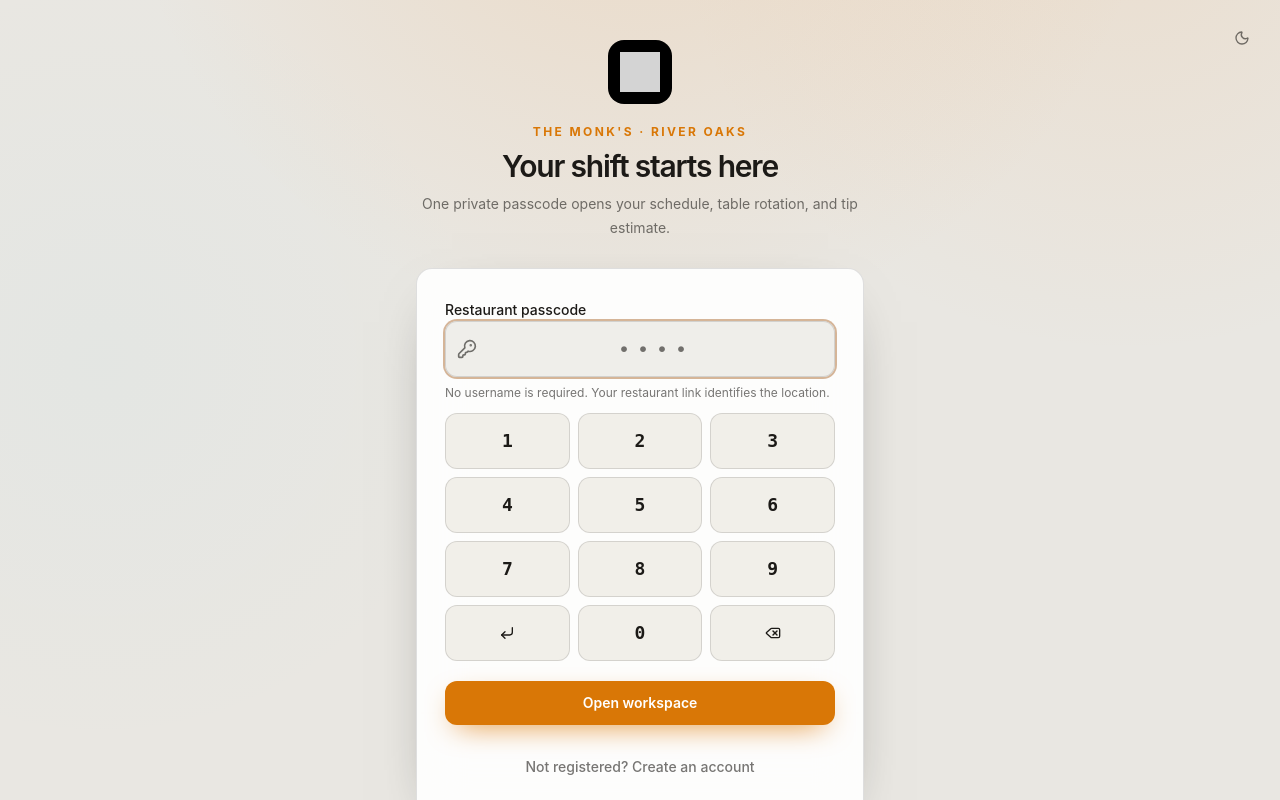
LoginScreen numeric keypad (Feature 013) › backspace removes exactly one digit
Click the button named "Digit 2" at (640, 441), box [578,413,702,469]
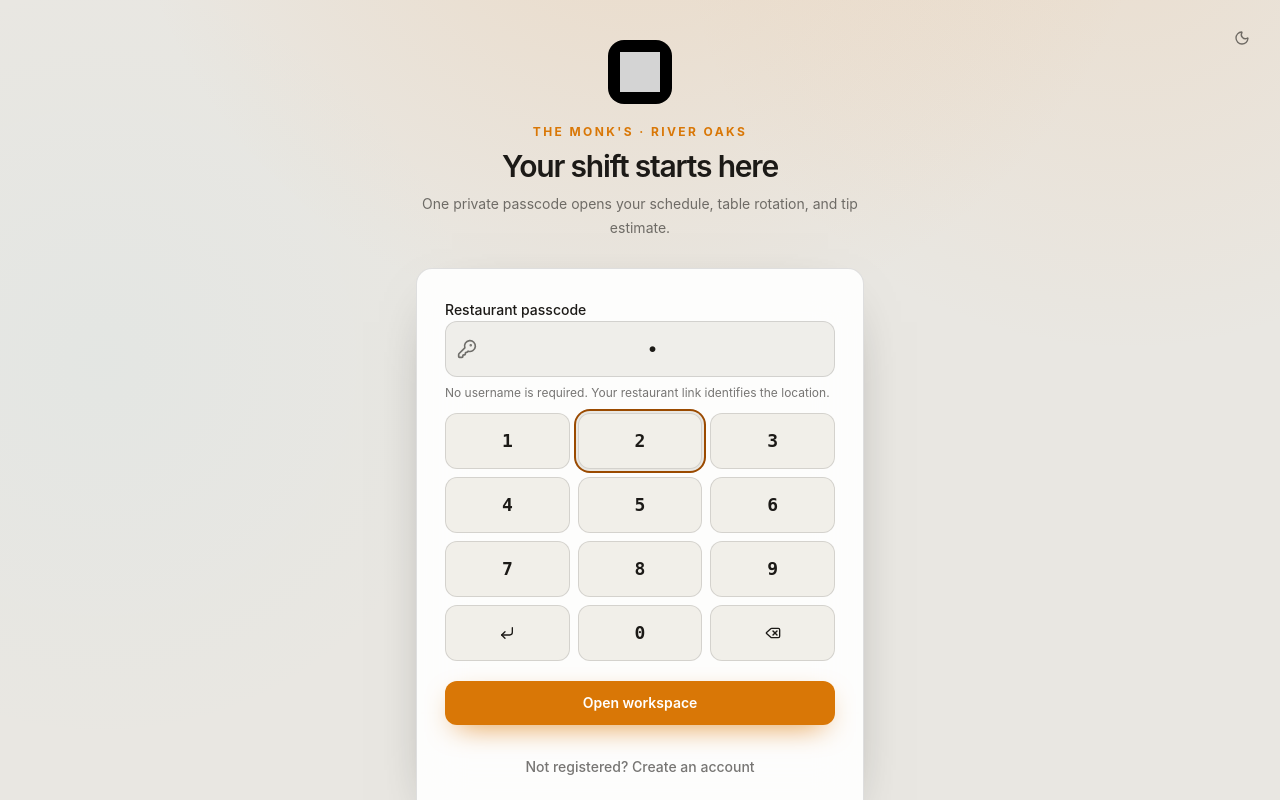
Click the button named "Digit 4" at (507, 505), box [445,477,570,533]
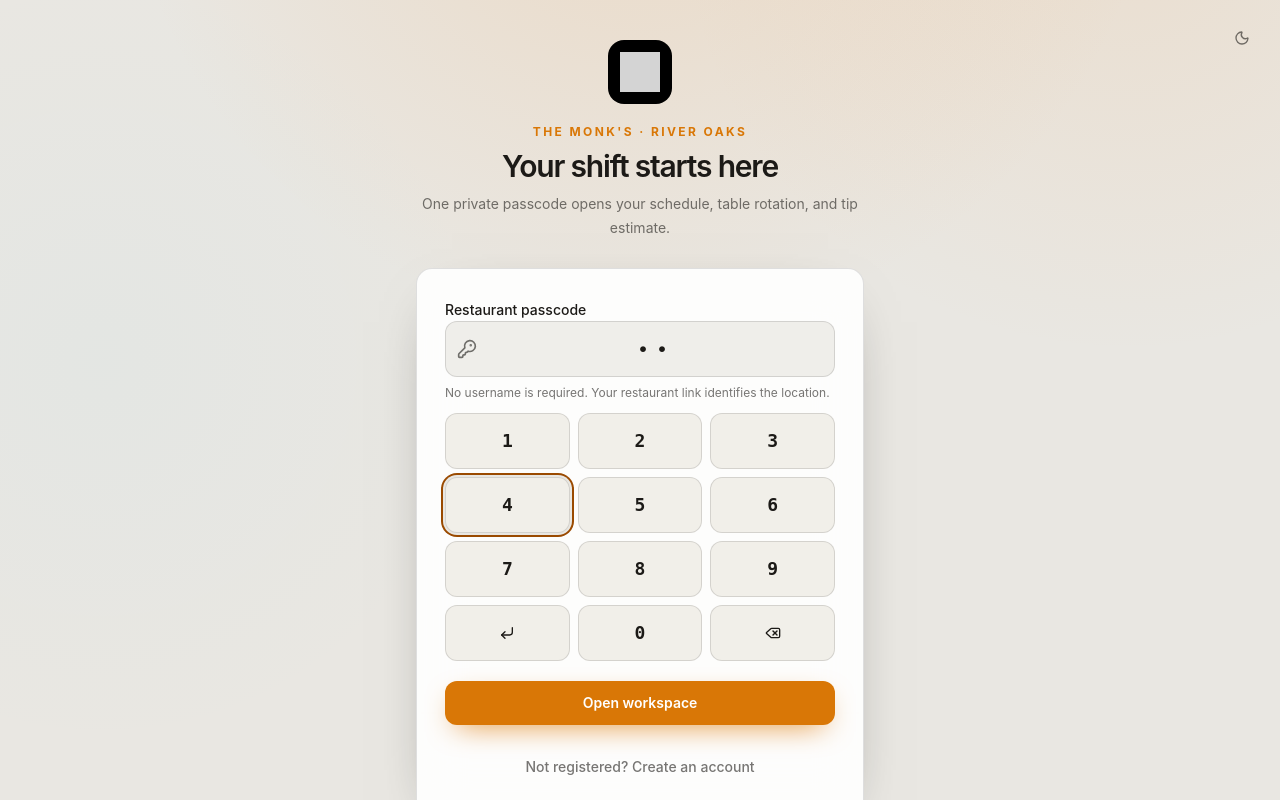
Click the button named "Backspace" at (773, 633), box [710,605,835,661]
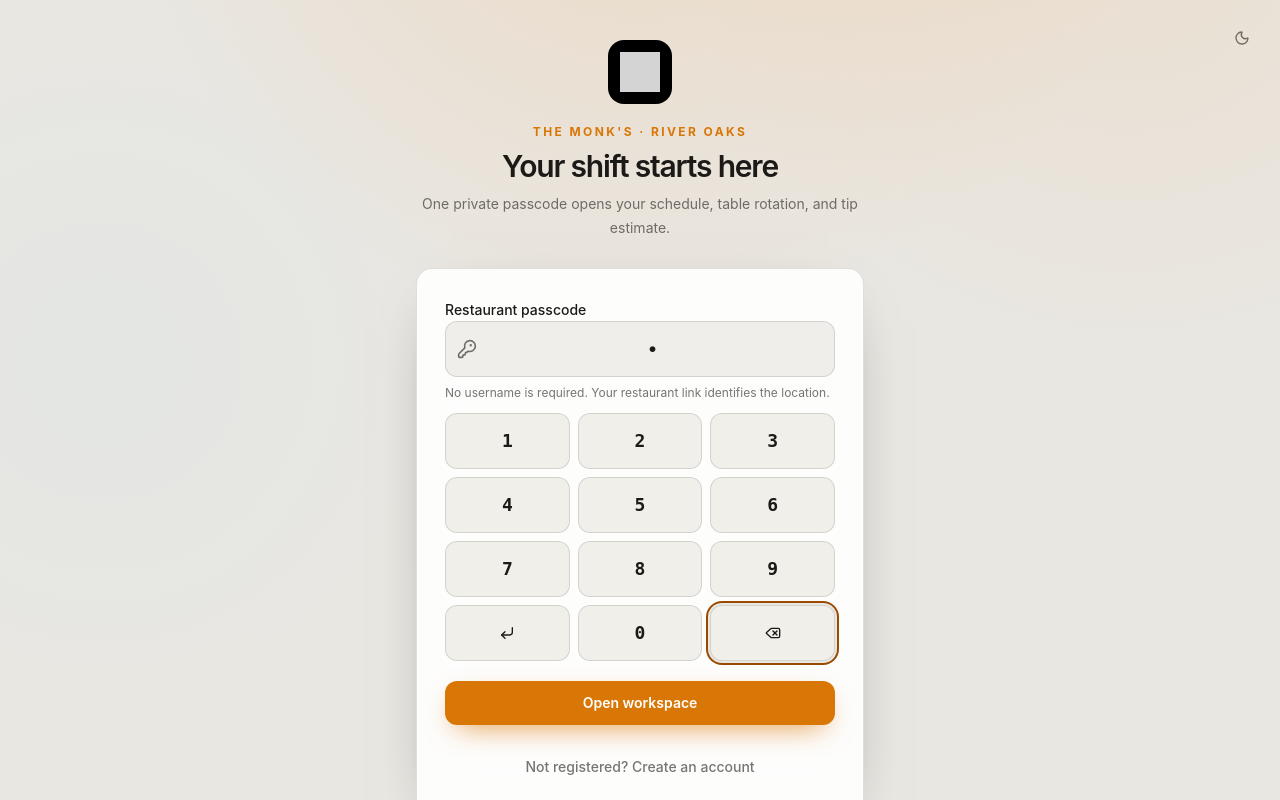
Expected: the password field labelled "Restaurant passcode" holds "2", [445,321,835,377]
